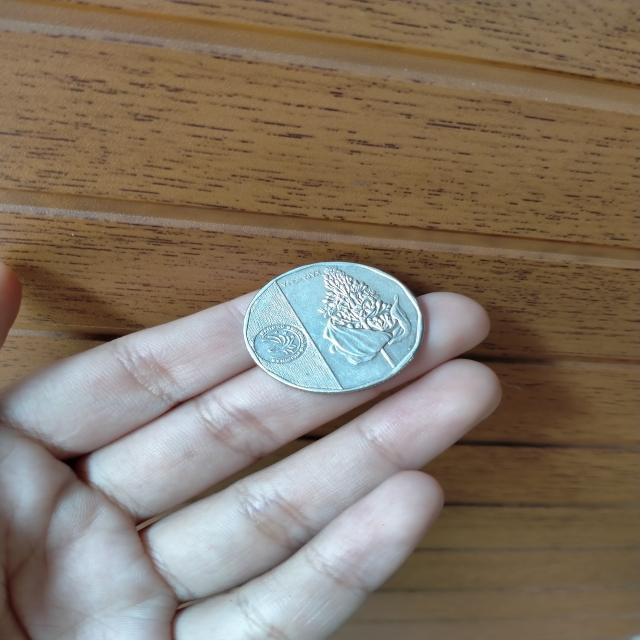10_New_Back: (312, 263, 430, 380)
